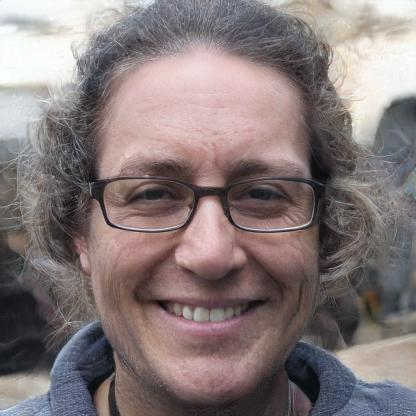glasses: (86, 165, 322, 244)
